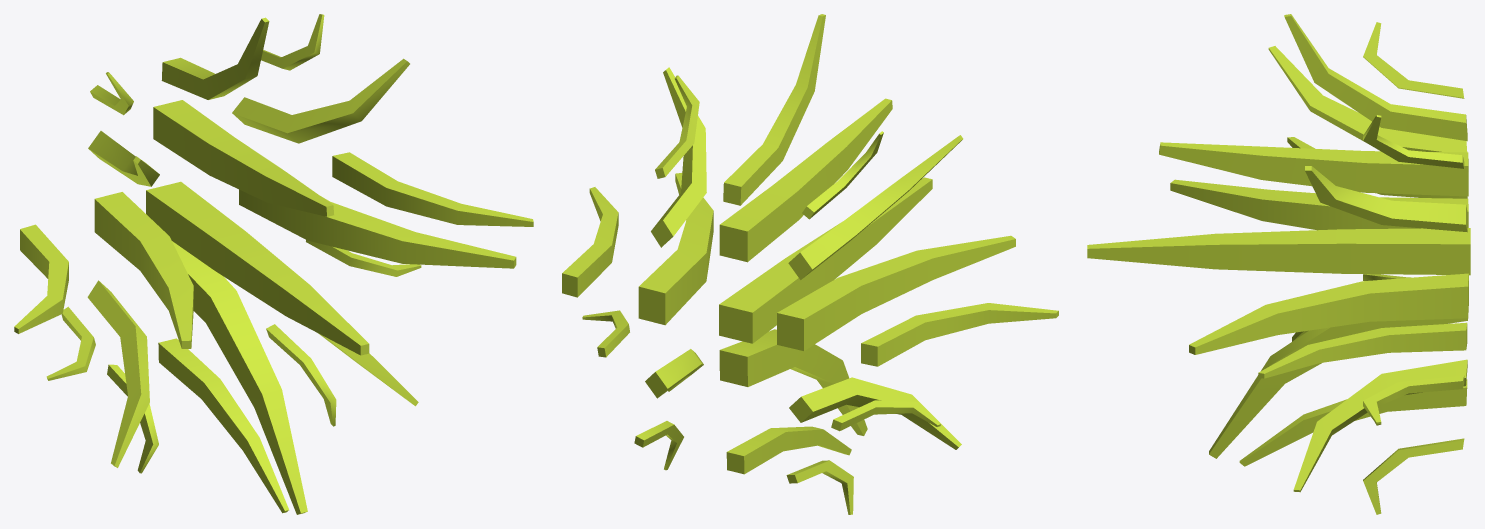
The picture shows the model from 3 angles, left to right: view 1: azimuth 30°, elevation 25°; view 2: azimuth 150°, elevation 25°; view 3: azimuth 270°, elevation 25°; orthographic projection. The views are drawn at different scales.
Parts seen in each view (by area): view 1: Box005; view 2: Box005; view 3: Box005.
Part boxes in pixels (x1=…): Box005: x1=14, y1=14, x2=533, y2=514; Box005: x1=562, y1=14, x2=1058, y2=514; Box005: x1=1087, y1=14, x2=1470, y2=514.
Size of the model in its own units: 361 by 326 by 251.
